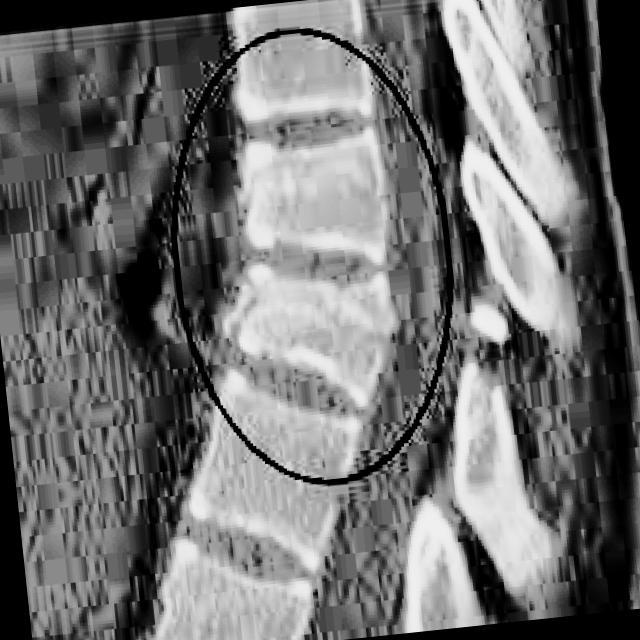Compression-Crush Fracutre: (224, 249, 398, 406), (238, 139, 396, 276)
